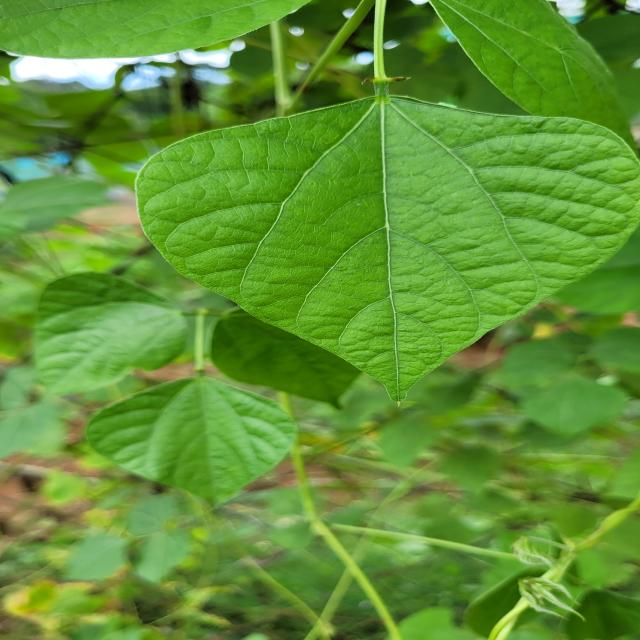Dolicos bean_healthy: (133, 92, 640, 394), (429, 0, 640, 158), (88, 358, 298, 501), (15, 256, 196, 398), (209, 302, 418, 405)
